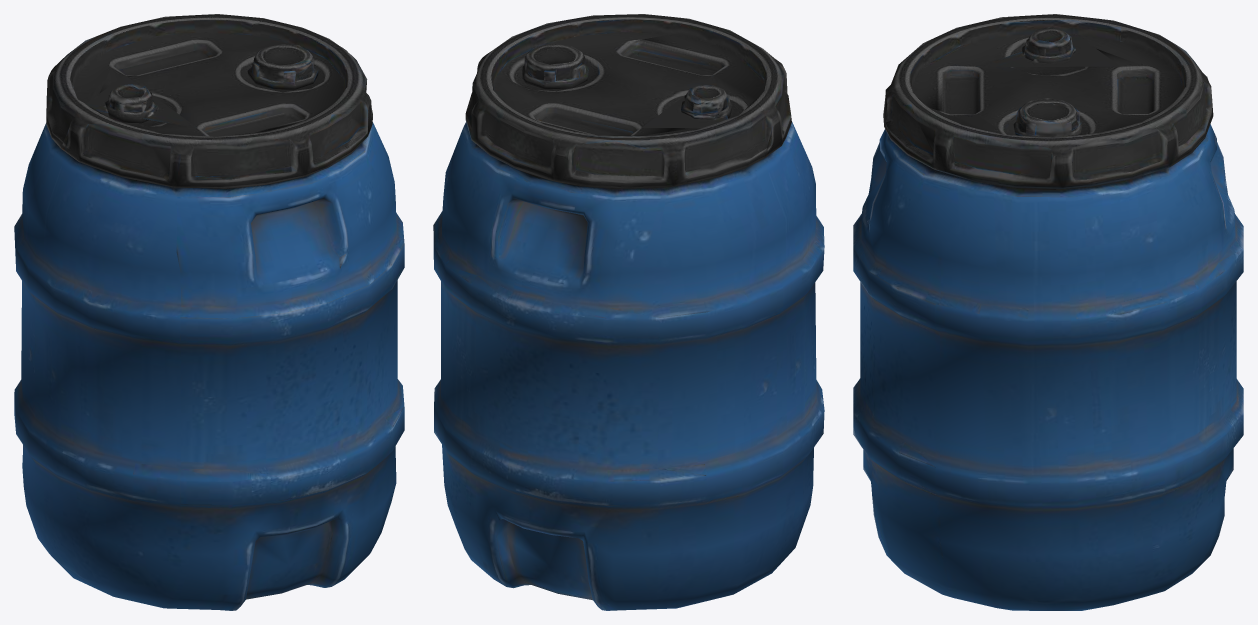
The model's file is barrel_blue.glb.
The picture shows the model from 3 angles, left to right: view 1: azimuth 30°, elevation 25°; view 2: azimuth 150°, elevation 25°; view 3: azimuth 270°, elevation 25°; orthographic projection.
Parts seen in each view (by area): view 1: barrel_blue; view 2: barrel_blue; view 3: barrel_blue.
Boxes of the visible parts, x1=… form: barrel_blue: x1=14, y1=14, x2=404, y2=610; barrel_blue: x1=433, y1=14, x2=824, y2=610; barrel_blue: x1=853, y1=14, x2=1243, y2=610.
Bounding box in the file's own units: 0.65 × 0.88 × 0.65.
Materials: 1 (1 with a texture image).
